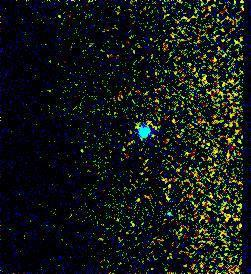star: (67, 134, 97, 164)
